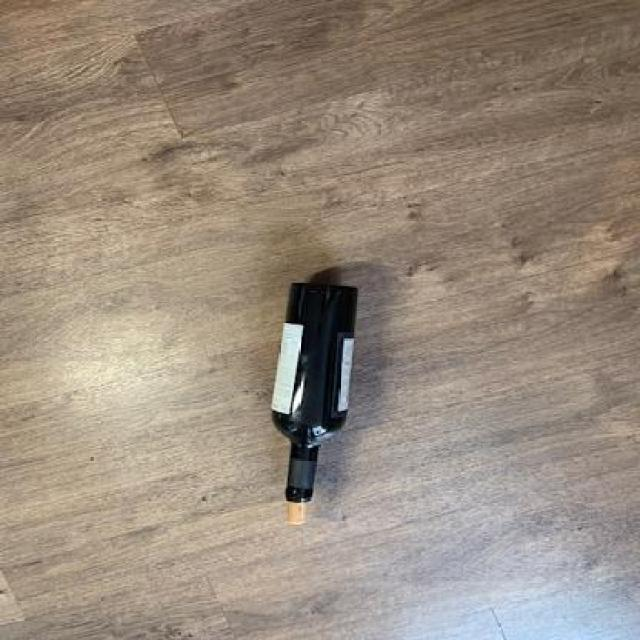trash: (262, 282, 362, 506)
